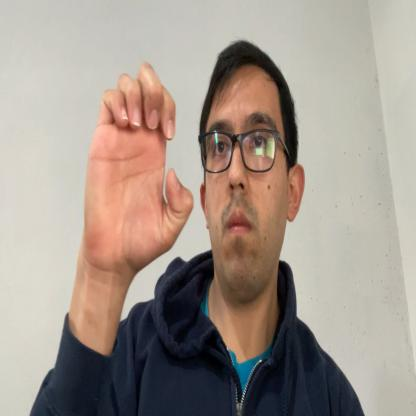E: (84, 61, 194, 272)
